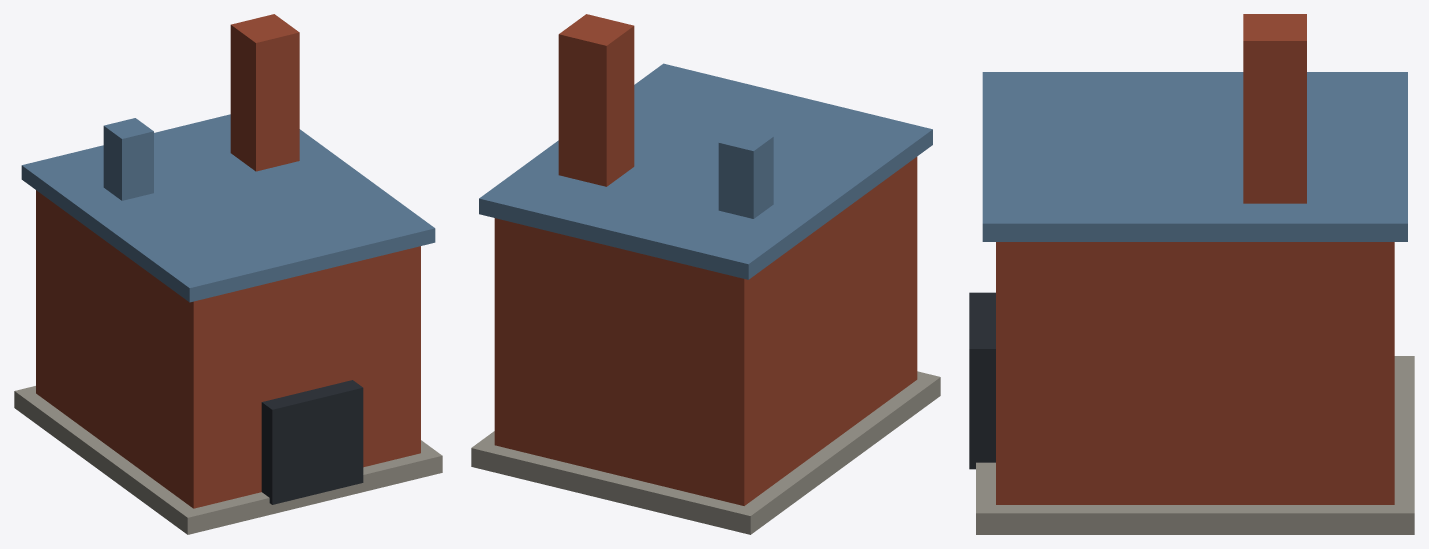
File: bld_industrial_a04_lod2.glb
3 renders of one model, left to right at view 1: azimuth 30°, elevation 25°; view 2: azimuth 150°, elevation 25°; view 3: azimuth 270°, elevation 25°, orthographic. The views are drawn at different scales.
Visible parts, largest first — view 1: body; view 2: body; view 3: body.
Part boxes in pixels (bbox=[...]): body: bbox=[14, 14, 442, 534]; body: bbox=[471, 14, 940, 534]; body: bbox=[969, 14, 1414, 534].
Bounding box in the file's own units: 5.6 × 7.82 × 6.7.
